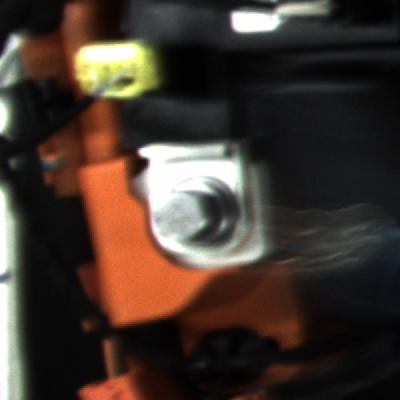nut_b: (147, 164, 251, 261)
